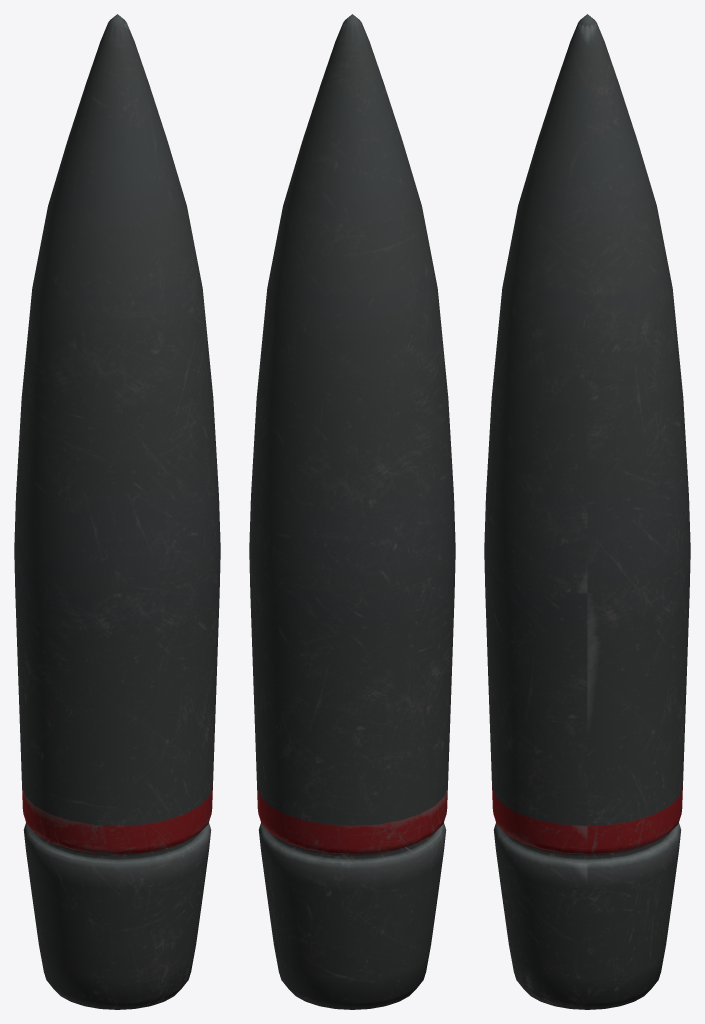
The model's file is Projectile.fbx.
3 views of the same model, side by side, from view 1: azimuth 30°, elevation 25°; view 2: azimuth 150°, elevation 25°; view 3: azimuth 270°, elevation 25° (orthographic).
Parts seen in each view (by area): view 1: Bullet; view 2: Bullet; view 3: Bullet.
Boxes of the visible parts, left/top/right/bottom form: Bullet: left=14, top=14, right=220, bottom=1009; Bullet: left=249, top=14, right=455, bottom=1009; Bullet: left=484, top=14, right=690, bottom=1009.
Size of the model in its own units: 0.038 by 0.1971 by 0.038.
